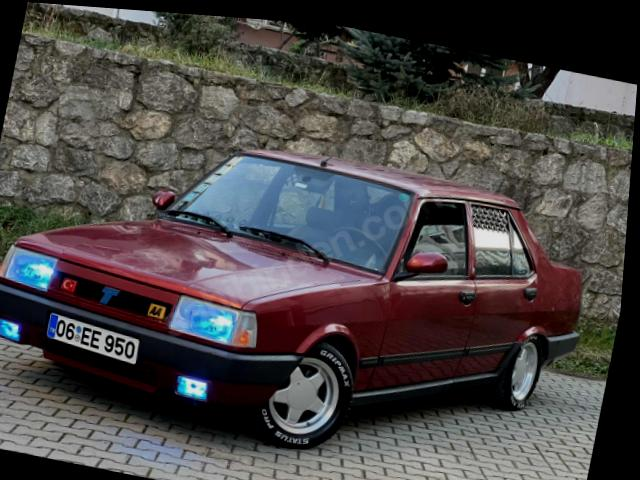plaka: (46, 314, 138, 363)
